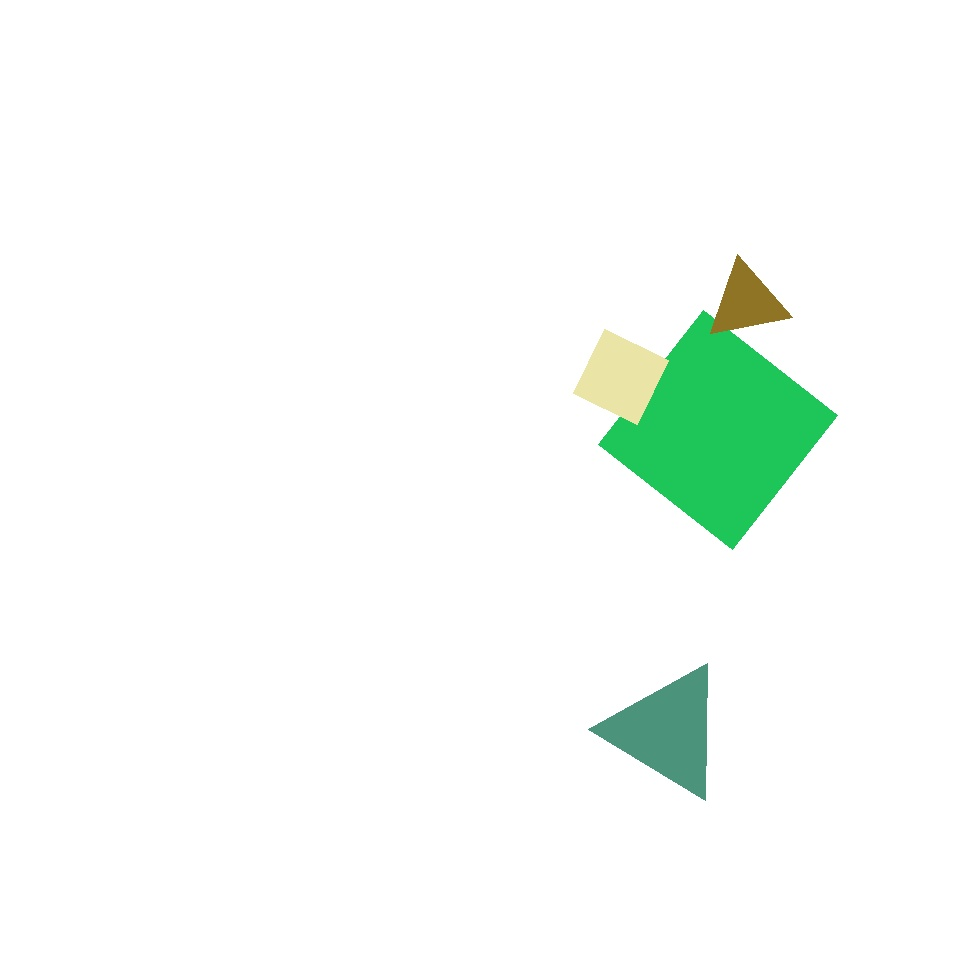circle: (608, 663, 726, 800), (160, 70, 244, 158), (706, 262, 788, 342)
square: (147, 128, 402, 382), (598, 311, 838, 550), (642, 512, 798, 670), (574, 330, 668, 424)
